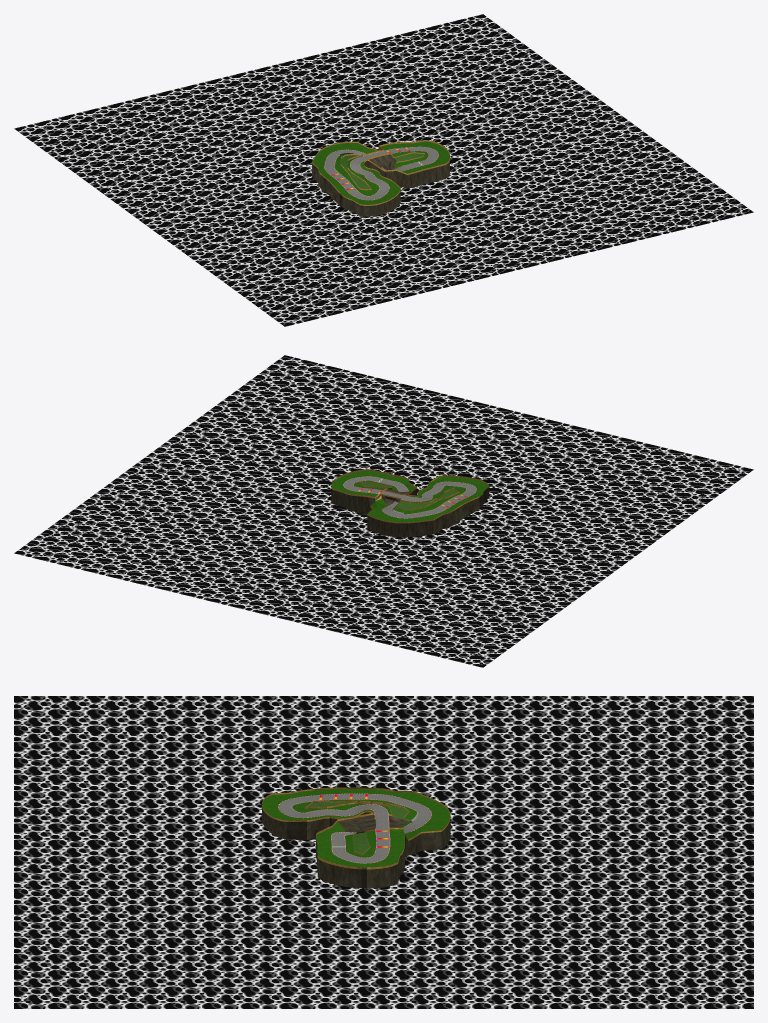
3 renders of one model, top to bottom at view 1: azimuth 30°, elevation 25°; view 2: azimuth 150°, elevation 25°; view 3: azimuth 270°, elevation 25°, orthographic. The views are drawn at different scales.
Visible parts, largest first — view 1: Water.018, GrassOffRoad.001, RockWall.007, Road.023, Fence.011; view 2: Water.018, RockWall.007, GrassOffRoad.001, Road.023, Fence.011; view 3: Water.018, GrassOffRoad.001, RockWall.007, Road.023, Fence.011, RoadSidesSlippery.001, Outofbounds.001.
Part boxes in pixels (left/top/right/bottom): Water.018: left=14, top=14, right=753, bottom=326; GrassOffRoad.001: left=312, top=141, right=449, bottom=204; RockWall.007: left=312, top=147, right=449, bottom=216; Road.023: left=325, top=147, right=438, bottom=200; Fence.011: left=312, top=140, right=449, bottom=205; Water.018: left=14, top=355, right=753, bottom=667; RockWall.007: left=331, top=487, right=489, bottom=537; GrassOffRoad.001: left=331, top=470, right=488, bottom=522; Road.023: left=344, top=476, right=476, bottom=518; Fence.011: left=331, top=469, right=489, bottom=523; Water.018: left=14, top=696, right=753, bottom=1008; GrassOffRoad.001: left=262, top=789, right=450, bottom=867; RockWall.007: left=262, top=807, right=450, bottom=888; Road.023: left=279, top=794, right=431, bottom=863; Fence.011: left=262, top=787, right=450, bottom=869; RoadSidesSlippery.001: left=278, top=793, right=431, bottom=863; Outofbounds.001: left=307, top=802, right=408, bottom=853.
Size of the model in its own units: 232713 by 18251 by 232713.
Materials: 11 (11 with a texture image).
